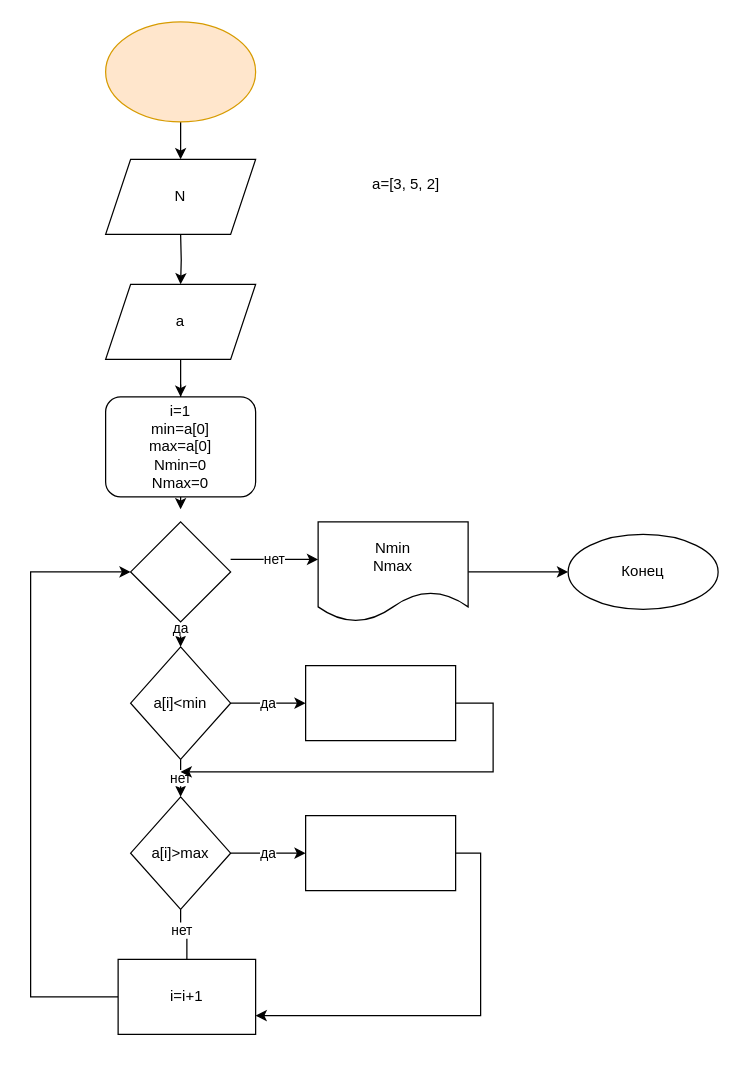
Some shapes in this 740 by 1066 pixel diagram are drawn without their labels. Each missing label, with the centre of its shape:
i<N: (x=180, y=571)
max=a[i] Nmax=i: (x=380, y=852)
min=a[i] Nmin=i: (x=380, y=702)
Старт: (x=180, y=71)
